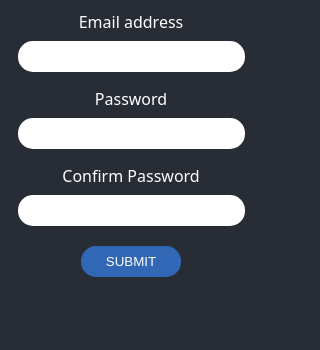
Test case: App › Confirm Password Input › should show error message on non-matching passwords
The width and height of the screenshot is (320, 350).
Expected: the text "the passwords must match" is not shown
Type "name@email.com" into the field labelled "Email address".
click(131, 56); type("name@email.com")  # box [18,41,244,72]
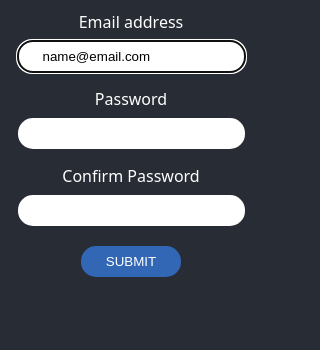
Type "12345" into the password field labelled "Password".
click(131, 134); type("12345")  # box [18,118,244,149]
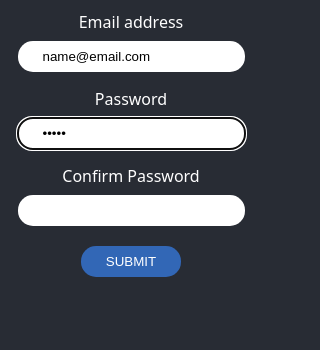
Type "11" into the password field labelled "Confirm Password".
click(131, 210); type("11")  # box [18,195,244,226]
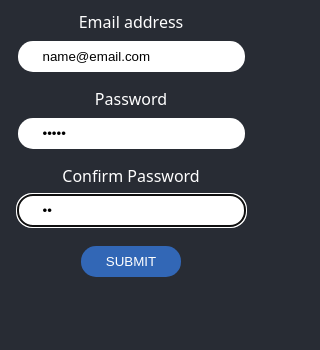
Click the button "Submit".
click(131, 262)  # box [81,246,181,277]
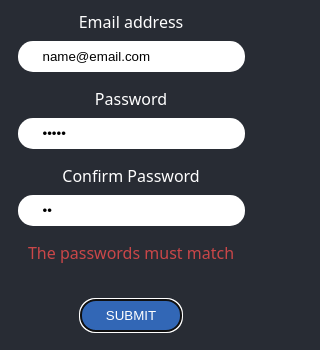
Expected: the text "The passwords must match" is shown, [28,242,234,264]
